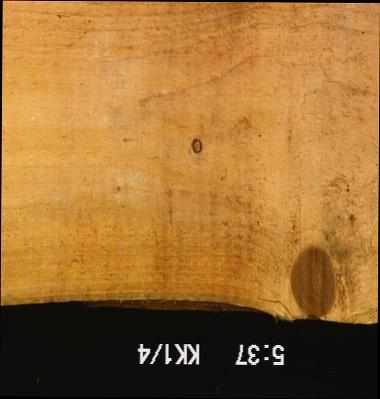dry_knot: (190, 137, 202, 154)
edge_knot: (288, 243, 337, 318)
wave: (83, 297, 258, 310)
